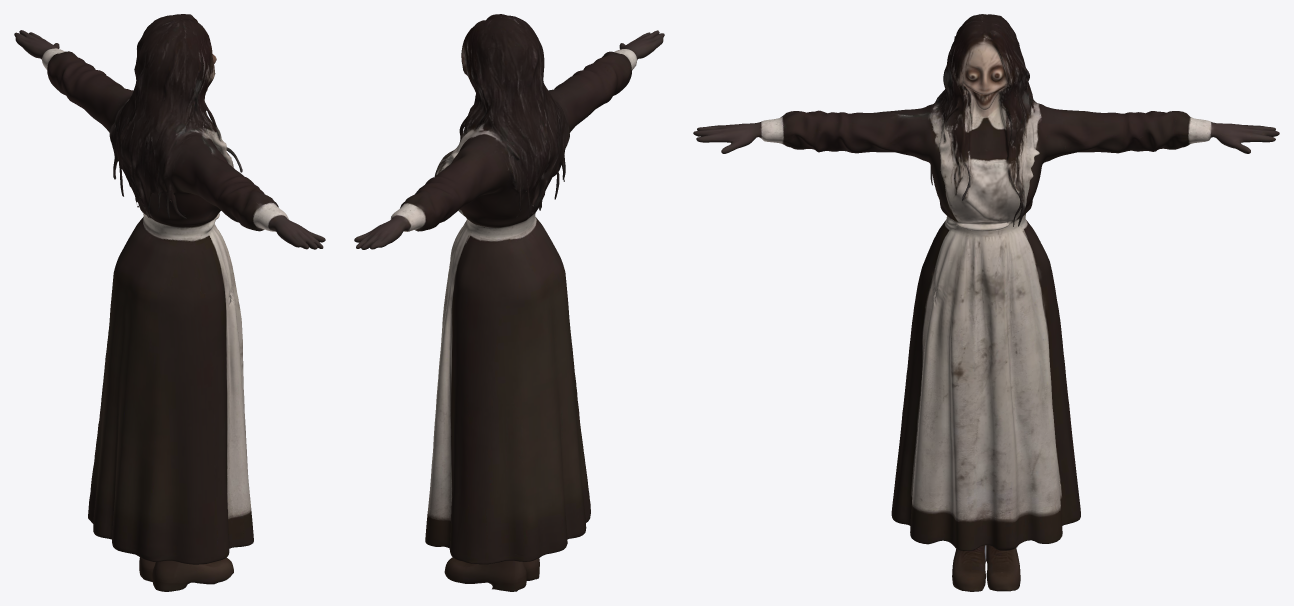
The model's file is tripo_pbr_model_87254fd7-b0d8-4723-b415-9926550b397b.fbx.
The picture shows the model from 3 angles, left to right: view 1: azimuth 30°, elevation 25°; view 2: azimuth 150°, elevation 25°; view 3: azimuth 270°, elevation 25°; orthographic projection.
Parts seen in each view (by area): view 1: tripo_node_87254fd7; view 2: tripo_node_87254fd7; view 3: tripo_node_87254fd7.
Boxes of the visible parts, box(x1,y1,x2,y2) form: tripo_node_87254fd7: box(14, 14, 325, 591); tripo_node_87254fd7: box(354, 14, 664, 591); tripo_node_87254fd7: box(693, 14, 1279, 591).
Size of the model in its own units: 25.07 by 99.6 by 95.61.
Materials: 1 (1 with a texture image).
